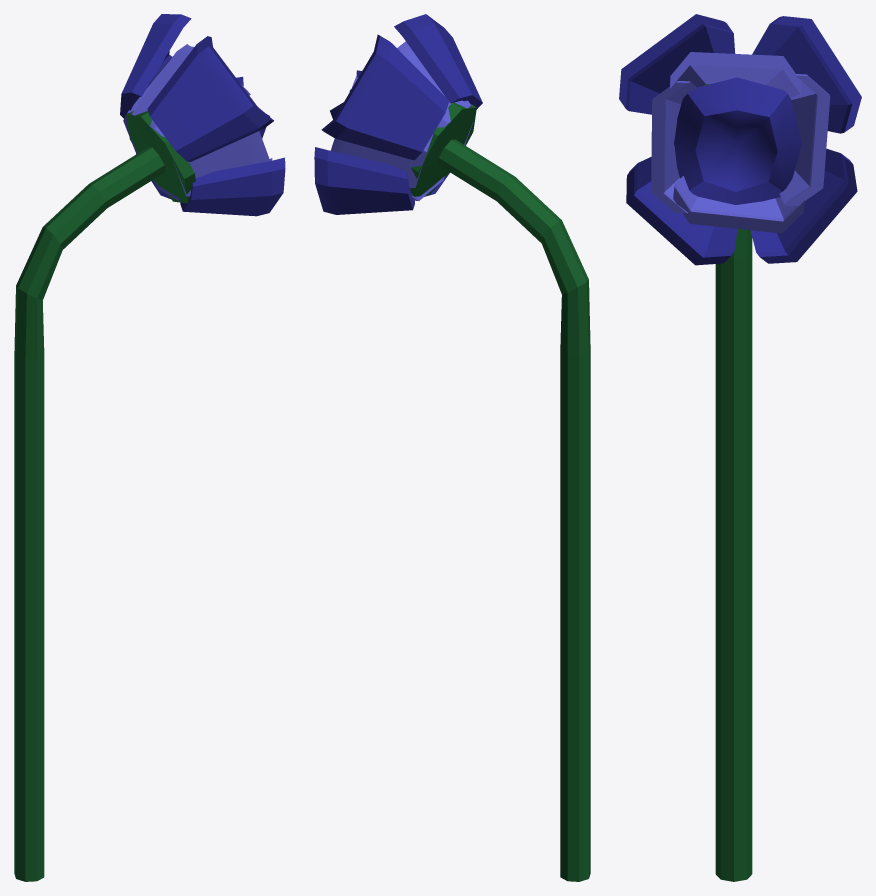
The model's file is TT_Flower_blue.fbx.
3 renders of one model, left to right at view 1: azimuth 30°, elevation 25°; view 2: azimuth 150°, elevation 25°; view 3: azimuth 270°, elevation 25°, orthographic. The views are drawn at different scales.
Parts seen in each view (by area): view 1: Rose_blue; view 2: Rose_blue; view 3: Rose_blue.
Boxes of the visible parts, box(x1,y1,x2,y2) form: Rose_blue: box(14, 14, 285, 881); Rose_blue: box(314, 14, 590, 881); Rose_blue: box(619, 14, 861, 881).
Size of the model in its own units: 25.62 by 79.21 by 18.19.
